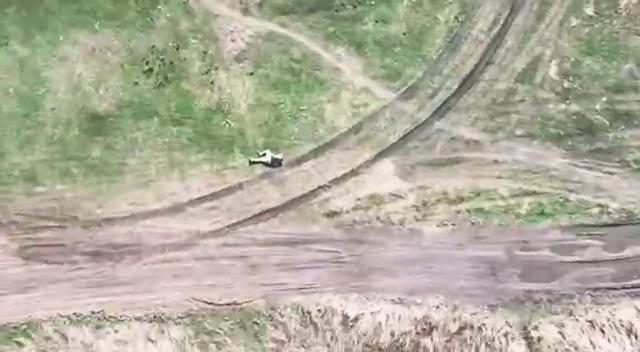person: (248, 149, 284, 168)
